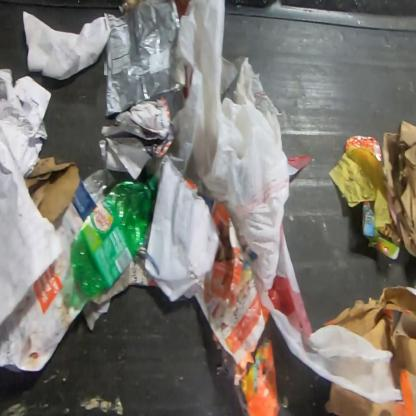cardboard: (324, 289, 415, 416), (383, 120, 416, 256), (25, 157, 79, 220), (361, 200, 395, 263)
metal: (345, 136, 382, 164)
rigid_plastic: (68, 180, 156, 300), (53, 167, 119, 254)
soft_plastic: (157, 0, 403, 402), (106, 0, 186, 119)
